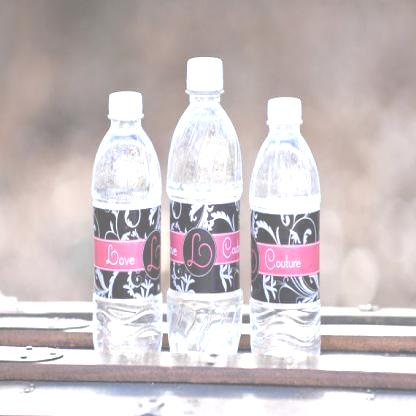bottle: (166, 57, 249, 362), (245, 94, 326, 363), (86, 88, 164, 360)
